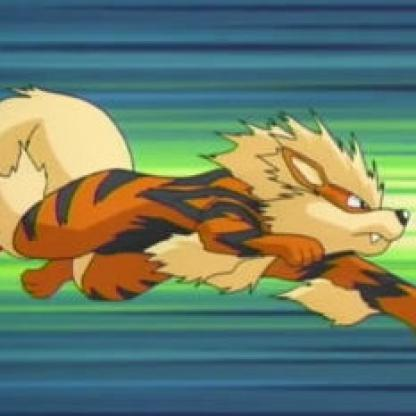Arcanine: (1, 53, 415, 363)
